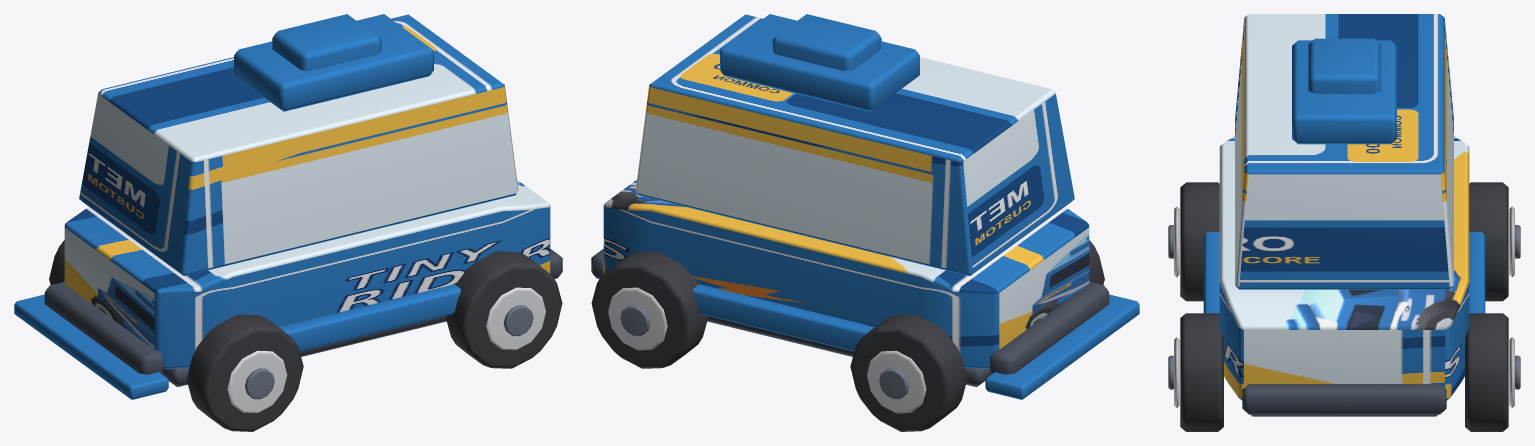
3 views of the same model, side by side, from view 1: azimuth 30°, elevation 25°; view 2: azimuth 150°, elevation 25°; view 3: azimuth 270°, elevation 25° (orthographic). The views are drawn at different scales.
Parts seen in each view (by area): view 1: CC-04_cabin, CC-04_connected_shell, custom equipment, Tire, Tire.002, custom side guard, custom chin, roof sign, front bumper, Rim, Rim.002, underbody (+2 smaller); view 2: CC-04_cabin, CC-04_connected_shell, custom equipment, Tire.001, Tire.003, custom side guard.001, custom chin, roof sign, front bumper, Rim.001, Rim.003, underbody (+2 smaller); view 3: CC-04_cabin, CC-04_connected_shell, custom equipment, rear bumper, Tire.002, Tire.003, roof sign, Tire, Tire.001, custom side guard, custom side guard.001, underbody (+4 smaller).
Boxes of the visible parts, box(x1,y1,x2,y2) form: CC-04_cabin: box(79, 14, 518, 275); CC-04_connected_shell: box(64, 180, 550, 368); custom equipment: box(234, 14, 433, 111); Tire: box(186, 314, 303, 431); Tire.002: box(445, 251, 562, 368); custom side guard: box(279, 284, 460, 351); custom chin: box(14, 294, 168, 399); roof sign: box(272, 14, 381, 70); front bumper: box(44, 281, 164, 374); Rim: box(227, 350, 287, 413); Rim.002: box(486, 287, 545, 350); underbody: box(162, 316, 446, 386); CC-04_cabin: box(635, 14, 1074, 275); CC-04_connected_shell: box(603, 180, 1089, 368); custom equipment: box(720, 14, 919, 111); Tire.001: box(850, 314, 967, 431); Tire.003: box(591, 251, 708, 368); custom side guard.001: box(693, 284, 874, 351); custom chin: box(985, 294, 1139, 399); roof sign: box(772, 14, 881, 70); front bumper: box(989, 281, 1109, 374); Rim.001: box(866, 350, 926, 413); Rim.003: box(608, 287, 667, 350); underbody: box(707, 316, 991, 386); CC-04_cabin: box(1235, 14, 1453, 289); CC-04_connected_shell: box(1219, 136, 1469, 400); custom equipment: box(1292, 40, 1396, 144); rear bumper: box(1242, 384, 1446, 414); Tire.002: box(1180, 313, 1223, 431); Tire.003: box(1465, 313, 1508, 431); roof sign: box(1308, 38, 1380, 93); Tire: box(1180, 182, 1219, 301); Tire.001: box(1469, 182, 1508, 301); custom side guard: box(1203, 231, 1219, 313); custom side guard.001: box(1469, 231, 1485, 313); underbody: box(1251, 414, 1437, 416).
Size of the model in its own units: 315 by 208 by 209.
